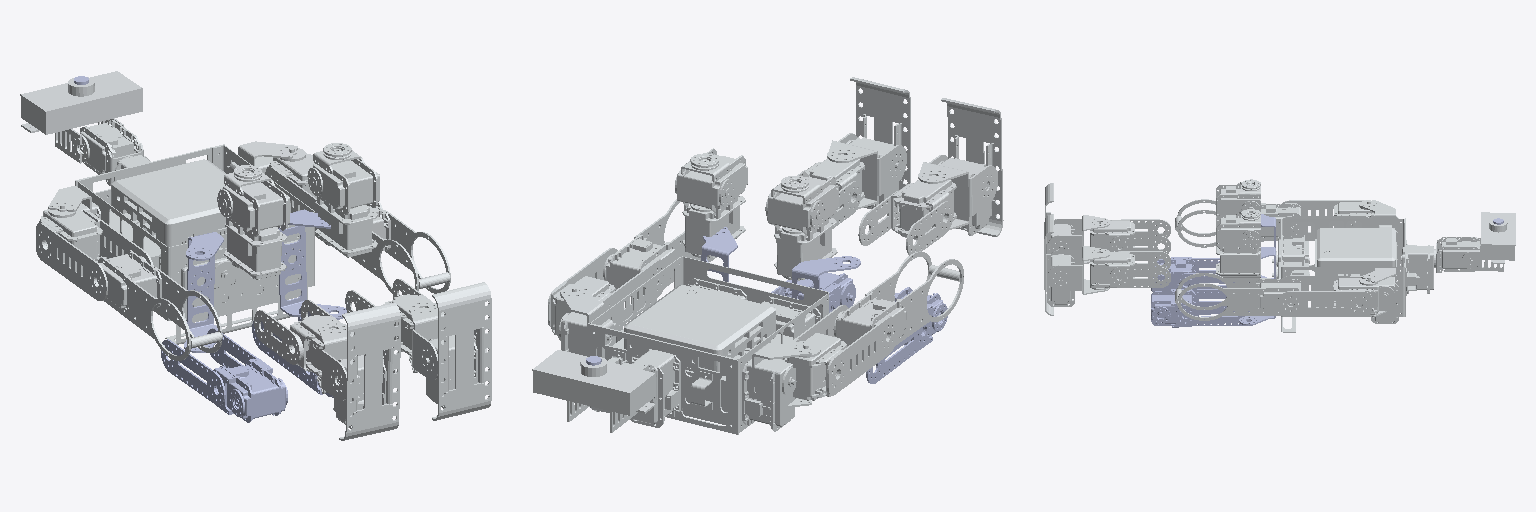
--- What the picture shows (computed from the rendered views, not written in the file) ---
The picture shows the robot from 3 angles, left to right: view 1: azimuth 30°, elevation 25°; view 2: azimuth 150°, elevation 25°; view 3: azimuth 270°, elevation 25°; orthographic projection.
Model natasha with 24 links and 23 joints (21 continuous, 2 fixed), rooted at TRUNK, posed all joints at 0.
Links seen in each view (by area): view 1: TRUNK, LFOOT_link, RFOOT_link, RLEG_2_link, LLEG_2_link, HEAD_1_link, RLEG_1_link, RARM_2_link, RARM_1_link, RLEG_3_link, LARM_2_link, LLEG_0_link (+9 smaller); view 2: TRUNK, HEAD_1_link, RLEG_2_link, RARM_1_link, LLEG_2_link, RARM_2_link, RLEG_3_link, RFOOT_link, LFOOT_link, LARM_1_link, LARM_2_link, RLEG_4_link (+8 smaller); view 3: TRUNK, LARM_1_link, LARM_2_link, LLEG_2_link, LLEG_3_link, LLEG_1_link, RLEG_3_link, HEAD_1_link, RARM_1_link, LLEG_4_link, RARM_2_link, RLEG_1_link (+4 smaller).
Link boxes in pixels (x1=…): TRUNK: x1=75, y1=144, x2=314, y2=344; LFOOT_link: x1=424, y1=282, x2=491, y2=420; RFOOT_link: x1=333, y1=303, x2=400, y2=440; RLEG_2_link: x1=217, y1=165, x2=289, y2=279; LLEG_2_link: x1=307, y1=143, x2=379, y2=257; HEAD_1_link: x1=20, y1=71, x2=142, y2=163; RLEG_1_link: x1=161, y1=328, x2=287, y2=422; RARM_2_link: x1=95, y1=250, x2=222, y2=360; RARM_1_link: x1=36, y1=204, x2=153, y2=300; RLEG_3_link: x1=254, y1=300, x2=340, y2=380; LARM_2_link: x1=351, y1=204, x2=450, y2=295; LLEG_0_link: x1=278, y1=209, x2=346, y2=319; TRUNK: x1=559, y1=256, x2=828, y2=434; HEAD_1_link: x1=532, y1=350, x2=655, y2=432; RLEG_2_link: x1=765, y1=171, x2=838, y2=280; RARM_1_link: x1=781, y1=305, x2=897, y2=400; LLEG_2_link: x1=675, y1=148, x2=747, y2=257; RARM_2_link: x1=833, y1=251, x2=963, y2=347; RLEG_3_link: x1=858, y1=175, x2=956, y2=255; RFOOT_link: x1=938, y1=98, x2=1003, y2=236; LFOOT_link: x1=846, y1=77, x2=910, y2=209; LARM_1_link: x1=548, y1=248, x2=667, y2=340; LARM_2_link: x1=603, y1=199, x2=716, y2=290; RLEG_4_link: x1=918, y1=155, x2=997, y2=229; TRUNK: x1=1272, y1=216, x2=1435, y2=332; LARM_1_link: x1=1277, y1=275, x2=1378, y2=316; LARM_2_link: x1=1175, y1=273, x2=1300, y2=320; LLEG_2_link: x1=1216, y1=209, x2=1260, y2=277; LLEG_3_link: x1=1090, y1=251, x2=1170, y2=289; LLEG_1_link: x1=1151, y1=289, x2=1255, y2=327; RLEG_3_link: x1=1090, y1=219, x2=1170, y2=255; HEAD_1_link: x1=1470, y1=212, x2=1515, y2=271; RARM_1_link: x1=1278, y1=200, x2=1374, y2=240; LLEG_4_link: x1=1047, y1=246, x2=1109, y2=294; RARM_2_link: x1=1175, y1=199, x2=1300, y2=247; RLEG_1_link: x1=1151, y1=257, x2=1234, y2=291.
Size in the robot's own frame: 0.3171 by 0.6859 by 0.2019 metres.
22 mesh visuals loaded from 24 distinct referenced files (22 binary STL); not drawn: 2 (reference not matched to a file when rendering).

robot.urdf — natasha:
<?xml version="1.0" ?>
<robot name="natasha" version="1.0">
  <link name="TRUNK">
    <inertial>
      <origin xyz="-6.51398520623136e-07 0.0175774224610887 -0.00272338802943403" rpy="0.0 0.0 0.0"/>
      <mass value="1.30096244584022"/>
      <inertia ixx="0.000800706241780773" ixy="7.03078693489014e-09" ixz="1.51532220678891e-08" iyy="0.00107903948589993" iyz="-8.2520998984575e-06" izz="0.00124471847173069"/>
    </inertial>
    <visual>
      <origin xyz="0.0 0.0 0.0" rpy="0.0 0.0 0.0"/>
      <geometry>
        <mesh filename="package://natasha/meshes/TRUNK.STL"/>
      </geometry>
      <material name="">
        <color rgba="0.898039215686275 0.917647058823529 0.929411764705882 1.0"/>
      </material>
    </visual>
    <collision>
      <origin xyz="1.1327983038102291e-18 0.01850000023841858 -0.0020000003278255463" rpy="1.5707963267948968 1.5707963267948966 0.0"/>
      <geometry>
        <box size="0.07999999821186068 0.19359999895095822 0.24259999394416806"/>
      </geometry>
    </collision>
  </link>
  <link name="LARM_0_link">
    <inertial>
      <origin xyz="0.00940240087518603 -0.00459323020780419 2.56257274697524e-05" rpy="0.0 0.0 0.0"/>
      <mass value="0.0227126661379003"/>
      <inertia ixx="1.55987340377569e-05" ixy="1.67253121532138e-06" ixz="-9.33108665795429e-09" iyy="1.69257189782125e-05" iyz="-5.55483641362968e-08" izz="6.96937791863942e-06"/>
    </inertial>
    <visual>
      <origin xyz="0.0 0.0 0.0" rpy="0.0 0.0 0.0"/>
      <geometry>
        <mesh filename="package://natasha/meshes/LARM_0_link.STL"/>
      </geometry>
      <material name="">
        <color rgba="0.898039215686275 0.917647058823529 0.929411764705882 1.0"/>
      </material>
    </visual>
    <collision>
      <origin xyz="0.013097860844305831 -0.007949894847238535 4.435260243706424e-05" rpy="1.574735371352731 -0.00395103321249166 -2.3547128931903925"/>
      <geometry>
        <box size="0.035258716008206084 0.056000013292668654 0.057756929529179414"/>
      </geometry>
    </collision>
  </link>
  <joint name="LARM_0" type="continuous">
    <origin xyz="0.0968000000000003 0.0615 0.0130000000000002" rpy="0.0 0.0 0.0"/>
    <axis xyz="-1.0 0.0 0.0"/>
    <parent link="TRUNK"/>
    <child link="LARM_0_link"/>
  </joint>
  <link name="LARM_1_link">
    <inertial>
      <origin xyz="2.69936341454335e-06 -0.0231641298245469 -0.0307096397868224" rpy="0.0 0.0 0.0"/>
      <mass value="0.313942828750374"/>
      <inertia ixx="0.000201312815423623" ixy="-5.05107454373478e-09" ixz="7.03025970863297e-09" iyy="7.42237915855183e-05" iyz="-2.86966238425838e-06" izz="0.000166600144989775"/>
    </inertial>
    <visual>
      <origin xyz="0.0 0.0 0.0" rpy="0.0 0.0 0.0"/>
      <geometry>
        <mesh filename="package://natasha/meshes/LARM_1_link.STL"/>
      </geometry>
      <material name="">
        <color rgba="0.898039215686275 0.917647058823529 0.929411764705882 1.0"/>
      </material>
    </visual>
    <collision>
      <origin xyz="-1.7059555863645764e-18 -0.059427108615636826 -0.028799999588727938" rpy="1.5707963267948966 6.123233995736766e-17 3.141592653589793"/>
      <geometry>
        <box size="0.055799998342990896 0.0575999988436699 0.14785421639680862"/>
      </geometry>
    </collision>
  </link>
  <joint name="LARM_1" type="continuous">
    <origin xyz="0.0338426329686676 -0.0236234517093273 0.0309322750601257" rpy="-0.00557896304881236 0.0 0.0"/>
    <axis xyz="0.0 -0.00557893410814587 0.999984437626015"/>
    <parent link="LARM_0_link"/>
    <child link="LARM_1_link"/>
  </joint>
  <link name="LARM_2_link">
    <inertial>
      <origin xyz="0.0306962270533954 -0.0274919403142502 -0.000520647910192906" rpy="0.0 0.0 0.0"/>
      <mass value="0.281496848216383"/>
      <inertia ixx="0.000156753433227666" ixy="2.86965668977681e-06" ixz="-7.0314533726049e-09" iyy="7.28961406660007e-05" iyz="4.98720536010233e-06" izz="0.000170904146038926"/>
    </inertial>
    <visual>
      <origin xyz="0.0 0.0 0.0" rpy="0.0 0.0 0.0"/>
      <geometry>
        <mesh filename="package://natasha/meshes/LARM_2_link.STL"/>
      </geometry>
      <material name="">
        <color rgba="0.898039215686275 0.917647058823529 0.929411764705882 1.0"/>
      </material>
    </visual>
    <collision>
      <origin xyz="0.028149999761581196 -0.07696931789369078 -0.0016564903011537248" rpy="1.5673557043404363 -4.213538962687746e-19 -1.8369629501154952e-16"/>
      <geometry>
        <box size="0.05629999918937726 0.0596943131345594 0.18302937192563473"/>
      </geometry>
    </collision>
  </link>
  <joint name="LARM_2" type="continuous">
    <origin xyz="-0.0307 -0.113500031528617 -0.0307999828025723" rpy="0.00373494942577696 0.0 0.0"/>
    <axis xyz="-1.0 0.0 0.0"/>
    <parent link="LARM_1_link"/>
    <child link="LARM_2_link"/>
  </joint>
  <link name="RARM_0_link">
    <inertial>
      <origin xyz="-0.00940240087518633 -0.00459330169048297 -2.4980018054066e-16" rpy="0.0 0.0 0.0"/>
      <mass value="0.0227126661379004"/>
      <inertia ixx="1.5598734037757e-05" ixy="-1.67255724428273e-06" ixz="4.77249092902069e-21" iyy="1.69260288836988e-05" iyz="1.53539601878537e-20" izz="6.96906801315327e-06"/>
    </inertial>
    <visual>
      <origin xyz="0.0 0.0 0.0" rpy="0.0 0.0 0.0"/>
      <geometry>
        <mesh filename="package://natasha/meshes/RARM_0_link.STL"/>
      </geometry>
      <material name="">
        <color rgba="0.898039215686275 0.917647058823529 0.929411764705882 1.0"/>
      </material>
    </visual>
    <collision>
      <origin xyz="-0.013097861871175683 -0.007950016788696985 0.0" rpy="1.5707963267948966 -0.0 2.354704908380917"/>
      <geometry>
        <box size="0.035258689582836684 0.05600000172853469 0.057756916956546445"/>
      </geometry>
    </collision>
  </link>
  <joint name="RARM_0" type="continuous">
    <origin xyz="-0.0968 0.0615 0.0130000000000002" rpy="0.0 0.0 0.0"/>
    <axis xyz="1.0 0.0 0.0"/>
    <parent link="TRUNK"/>
    <child link="RARM_0_link"/>
  </joint>
  <link name="RARM_1_link">
    <inertial>
      <origin xyz="2.69936078153843e-06 -0.0231641298248161 -0.0307096432098593" rpy="0.0 0.0 0.0"/>
      <mass value="0.313942828751114"/>
      <inertia ixx="0.000201312815425872" ixy="-5.05107366001073e-09" ixz="7.03026375288569e-09" iyy="7.4223791590747e-05" iyz="-2.8696566891905e-06" izz="0.000166600144987775"/>
    </inertial>
    <visual>
      <origin xyz="0.0 0.0 0.0" rpy="0.0 0.0 0.0"/>
      <geometry>
        <mesh filename="package://natasha/meshes/RARM_1_link.STL"/>
      </geometry>
      <material name="">
        <color rgba="0.898039215686275 0.917647058823529 0.929411764705882 1.0"/>
      </material>
    </visual>
    <collision>
      <origin xyz="-1.118781862580093e-19 -0.059427108615636826 -0.02879999958872795" rpy="-1.5707963267948968 1.2246467991473532e-16 3.141592653589793"/>
      <geometry>
        <box size="0.055799998342990896 0.057599998843669925 0.14785421639680862"/>
      </geometry>
    </collision>
  </link>
  <joint name="RARM_1" type="continuous">
    <origin xyz="-0.0338426329686679 -0.0237956531967125 0.0307999999999998" rpy="0.0 0.0 0.00782300250560052"/>
    <axis xyz="0.0 0.0 1.0"/>
    <parent link="RARM_0_link"/>
    <child link="RARM_1_link"/>
  </joint>
  <link name="RARM_2_link">
    <inertial>
      <origin xyz="-0.0308311537115563 -0.0273506992114726 -0.000523962569397213" rpy="0.0 0.0 0.0"/>
      <mass value="0.282950517834651"/>
      <inertia ixx="0.000156898152501548" ixy="-2.86965669176103e-06" ixz="-7.03145069111775e-09" iyy="7.29711487587658e-05" iyz="4.99731421083856e-06" izz="0.00017097915418613"/>
    </inertial>
    <visual>
      <origin xyz="0.0 0.0 0.0" rpy="0.0 0.0 0.0"/>
      <geometry>
        <mesh filename="package://natasha/meshes/RARM_2_link.STL"/>
      </geometry>
      <material name="">
        <color rgba="0.898039215686275 0.917647058823529 0.929411764705882 1.0"/>
      </material>
    </visual>
    <collision>
      <origin xyz="-0.02865000077486019 -0.0769693178936908 -0.0016564903011537248" rpy="1.5742369492493569 -0.0 3.141592653589793"/>
      <geometry>
        <box size="0.05730000121593517 0.059694313134559404 0.18302937192563506"/>
      </geometry>
    </collision>
  </link>
  <joint name="RARM_2" type="continuous">
    <origin xyz="0.0307 -0.113500031528617 -0.0308000171974276" rpy="0.0178992667652849 0.0 0.0"/>
    <axis xyz="0.999969400471955 -0.00782166957684035 0.000140017103543179"/>
    <parent link="RARM_1_link"/>
    <child link="RARM_2_link"/>
  </joint>
  <link name="LLEG_0_link">
    <inertial>
      <origin xyz="-1.45716771982052e-15 -0.00624311928099654 6.10622663543836e-16" rpy="0.0 0.0 0.0"/>
      <mass value="0.0106610977876751"/>
      <inertia ixx="2.05913544859017e-05" ixy="-2.39821924336822e-21" ixz="4.47915508572983e-20" iyy="1.95602871362454e-05" iyz="4.90322232832319e-21" izz="3.1472868130087e-06"/>
    </inertial>
    <visual>
      <origin xyz="0.0 0.0 0.0" rpy="0.0 0.0 0.0"/>
      <geometry>
        <mesh filename="package://natasha/meshes/LLEG_0_link.STL"/>
      </geometry>
      <material name="">
        <color rgba="0.792156862745098 0.819607843137255 0.933333333333333 1.0"/>
      </material>
    </visual>
    <collision>
      <origin xyz="3.431278449951264e-20 -0.018699999433010813 0.0" rpy="3.141592653589793 -0.0 3.141592653589793"/>
      <geometry>
        <box size="0.03299999982118607 0.046999999321997166 0.10599999874830246"/>
      </geometry>
    </collision>
  </link>
  <joint name="LLEG_0" type="continuous">
    <origin xyz="0.0520000000000016 -0.1028 -0.00200000000000047" rpy="0.0 0.0 0.0"/>
    <axis xyz="0.0 1.0 0.0"/>
    <parent link="TRUNK"/>
    <child link="LLEG_0_link"/>
  </joint>
  <link name="LLEG_1_link">
    <inertial>
      <origin xyz="4.75828358613636e-05 -0.0144968100117637 0.0538237062226173" rpy="0.0 0.0 0.0"/>
      <mass value="0.184781082090319"/>
      <inertia ixx="7.524372002369e-05" ixy="-4.58251593687414e-07" ixz="-9.74530579169237e-14" iyy="4.78641548998941e-05" iyz="4.49008087983779e-07" izz="7.61508070399268e-05"/>
    </inertial>
    <visual>
      <origin xyz="0.0 0.0 0.0" rpy="0.0 0.0 0.0"/>
      <geometry>
        <mesh filename="package://natasha/meshes/LLEG_1_link.STL"/>
      </geometry>
      <material name="">
        <color rgba="0.792156862745098 0.819607843137255 0.933333333333333 1.0"/>
      </material>
    </visual>
    <collision>
      <origin xyz="0.002000000327825545 -0.018050001934170723 0.05239999875426293" rpy="3.141592653589793 -0.0 -6.123233995736766e-17"/>
      <geometry>
        <box size="0.05800000205636025 0.06510001048445702 0.10480000406503676"/>
      </geometry>
    </collision>
  </link>
  <joint name="LLEG_1" type="continuous">
    <origin xyz="0.0 -0.0311999999964205 -0.0534999999999994" rpy="0.0 0.0 2.55102041377118e-05"/>
    <axis xyz="0.0 0.0 1.0"/>
    <parent link="LLEG_0_link"/>
    <child link="LLEG_1_link"/>
  </joint>
  <link name="LLEG_2_link">
    <inertial>
      <origin xyz="-0.0301478736022048 -0.0955273605434209 -2.41470557441059e-06" rpy="0.0 0.0 0.0"/>
      <mass value="0.129982121310114"/>
      <inertia ixx="8.08701115064459e-05" ixy="-1.06336541182759e-06" ixz="2.50623318412056e-09" iyy="2.79220310390312e-05" iyz="-1.86921845837061e-09" izz="8.47582994907939e-05"/>
    </inertial>
    <visual>
      <origin xyz="0.0 0.0 0.0" rpy="0.0 0.0 0.0"/>
      <geometry>
        <mesh filename="package://natasha/meshes/LLEG_2_link.STL"/>
      </geometry>
      <material name="">
        <color rgba="0.898039215686275 0.917647058823529 0.929411764705882 1.0"/>
      </material>
    </visual>
    <collision>
      <origin xyz="-0.030619532667901902 -0.06517596114663399 3.916762792122925e-11" rpy="-1.5470661193873567 1.5707962635746238 -3.141592653589793"/>
      <geometry>
        <box size="0.040200004640963884 0.057350680620002245 0.16161748628720984"/>
      </geometry>
    </collision>
  </link>
  <joint name="LLEG_2" type="continuous">
    <origin xyz="0.031 0.0 0.075" rpy="0.0 0.0 0.0"/>
    <axis xyz="-0.999999999674615 2.55102041346993e-05 0.0"/>
    <parent link="LLEG_1_link"/>
    <child link="LLEG_2_link"/>
  </joint>
  <link name="LLEG_3_link">
    <inertial>
      <origin xyz="0.0317128181060751 -0.0686257499005281 -9.66303387609502e-05" rpy="0.0 0.0 0.0"/>
      <mass value="0.282112491927564"/>
      <inertia ixx="0.000133985423728168" ixy="5.05107543825622e-09" ixz="-7.03026183154311e-09" iyy="6.82230117936737e-05" iyz="-2.86965668973126e-06" izz="0.000105259491957706"/>
    </inertial>
    <visual>
      <origin xyz="0.0 0.0 0.0" rpy="0.0 0.0 0.0"/>
      <geometry>
        <mesh filename="package://natasha/meshes/LLEG_3_link.STL"/>
      </geometry>
      <material name="">
        <color rgba="0.898039215686275 0.917647058823529 0.929411764705882 1.0"/>
      </material>
    </visual>
    <collision>
      <origin xyz="0.030549999908544123 -0.044249999802559614 -0.0023499997332692146" rpy="1.5707963267948966 -0.0 3.141592653589793"/>
      <geometry>
        <box size="0.05549999955110252 0.05690000019967556 0.11850000265985726"/>
      </geometry>
    </collision>
  </link>
  <joint name="LLEG_3" type="continuous">
    <origin xyz="-0.0608000000000031 -0.131000000000008 0.0" rpy="0.0 0.0 0.0"/>
    <axis xyz="0.999999999674615 -2.55102041200613e-05 0.0"/>
    <parent link="LLEG_2_link"/>
    <child link="LLEG_3_link"/>
  </joint>
  <link name="LLEG_4_link">
    <inertial>
      <origin xyz="0.0 -0.0298481620218617 0.0308000000000266" rpy="0.0 0.0 0.0"/>
      <mass value="0.0480935266273041"/>
      <inertia ixx="3.48400068709962e-05" ixy="-7.00456542709904e-21" ixz="2.73234315500094e-21" iyy="3.54310153616357e-05" iyz="3.04707833088661e-20" izz="3.83846336806515e-05"/>
    </inertial>
    <visual>
      <origin xyz="0.0 0.0 0.0" rpy="0.0 0.0 0.0"/>
      <geometry>
        <mesh filename="package://natasha/meshes/LLEG_4_link.STL"/>
      </geometry>
      <material name="">
        <color rgba="0.898039215686275 0.917647058823529 0.929411764705882 1.0"/>
      </material>
    </visual>
    <collision>
      <origin xyz="-1.5828114710871565e-18 -0.030811095610260963 0.030800001113675535" rpy="-1.5707963267948968 1.5707963267948966 0.0"/>
      <geometry>
        <box size="0.055999999167397625 0.05600000172853469 0.09217512235045433"/>
      </geometry>
    </collision>
  </link>
  <joint name="LLEG_4" type="continuous">
    <origin xyz="0.0323000000000004 -0.0890000000000009 -0.0308000000000004" rpy="0.0 0.0 0.0"/>
    <axis xyz="0.0 0.0 1.0"/>
    <parent link="LLEG_3_link"/>
    <child link="LLEG_4_link"/>
  </joint>
  <link name="LFOOT_link">
    <inertial>
      <origin xyz="0.0307034864405177 -0.0034793009801386 -0.0116608138047555" rpy="0.0 0.0 0.0"/>
      <mass value="0.282453842585213"/>
      <inertia ixx="0.000173706647021178" ixy="7.0307869343981e-09" ixz="2.86965669064335e-06" iyy="0.000210076821795521" iyz="9.85162650549e-08" izz="7.65870914479548e-05"/>
    </inertial>
    <visual>
      <origin xyz="0.0 0.0 0.0" rpy="0.0 0.0 0.0"/>
      <geometry>
        <mesh filename="package://natasha/meshes/LFOOT_link.STL"/>
      </geometry>
      <material name="">
        <color rgba="0.898039215686275 0.917647058823529 0.929411764705882 1.0"/>
      </material>
    </visual>
    <collision>
      <origin xyz="0.030400000596046438 -0.002100000157952309 0.00828000158071518" rpy="3.141592653589793 -0.0 1.5707963267948966"/>
      <geometry>
        <box size="0.04439999908208848 0.06080000085830691 0.13544000685214996"/>
      </geometry>
    </collision>
  </link>
  <joint name="LFOOT" type="continuous">
    <origin xyz="-0.0307999999999999 -0.0564731999999996 0.0308000000000266" rpy="0.0 0.0 0.0"/>
    <axis xyz="0.999999999674615 -2.55102041204107e-05 0.0"/>
    <parent link="LLEG_4_link"/>
    <child link="LFOOT_link"/>
  </joint>
  <link name="RLEG_0_link">
    <inertial>
      <origin xyz="1.4432899320127e-15 -0.0062431192809965 6.38378239159465e-16" rpy="0.0 0.0 0.0"/>
      <mass value="0.0106610977876751"/>
      <inertia ixx="2.05913544859017e-05" ixy="1.144507387098e-21" ixz="-5.01520546267034e-21" iyy="1.95602871362454e-05" iyz="1.04324170235949e-20" izz="3.14728681300865e-06"/>
    </inertial>
    <visual>
      <origin xyz="0.0 0.0 0.0" rpy="0.0 0.0 0.0"/>
      <geometry>
        <mesh filename="package://natasha/meshes/RLEG_0_link.STL"/>
      </geometry>
      <material name="">
        <color rgba="0.792156862745098 0.819607843137255 0.933333333333333 1.0"/>
      </material>
    </visual>
    <collision>
      <origin xyz="3.431278449951264e-20 -0.018699999433010813 0.0" rpy="3.141592653589793 -0.0 3.141592653589793"/>
      <geometry>
        <box size="0.03299999982118607 0.046999999321997166 0.10599999874830246"/>
      </geometry>
    </collision>
  </link>
  <joint name="RLEG_0" type="continuous">
    <origin xyz="-0.0520000000000016 -0.1028 -0.00200000000000045" rpy="0.0 0.0 0.0"/>
    <axis xyz="0.0 1.0 0.0"/>
    <parent link="TRUNK"/>
    <child link="RLEG_0_link"/>
  </joint>
  <link name="RLEG_1_link">
    <inertial>
      <origin xyz="4.75879385162942e-05 -0.0144968100118387 0.0538237062226283" rpy="0.0 0.0 0.0"/>
      <mass value="0.184781082075963"/>
      <inertia ixx="7.52437200227313e-05" ixy="-4.58251594029843e-07" ixz="-9.68255551321689e-14" iyy="4.78641549008102e-05" iyz="4.49008087309099e-07" izz="7.61508070403621e-05"/>
    </inertial>
    <visual>
      <origin xyz="0.0 0.0 0.0" rpy="0.0 0.0 0.0"/>
      <geometry>
        <mesh filename="package://natasha/meshes/RLEG_1_link.STL"/>
      </geometry>
      <material name="">
        <color rgba="0.792156862745098 0.819607843137255 0.933333333333333 1.0"/>
      </material>
    </visual>
    <collision>
      <origin xyz="0.002000000327825545 -0.018050001934170723 0.05239999875426293" rpy="3.141592653589793 -0.0 -6.123233995736766e-17"/>
      <geometry>
        <box size="0.05800000205636025 0.06510001048445702 0.10480000406503676"/>
      </geometry>
    </collision>
  </link>
  <joint name="RLEG_1" type="continuous">
    <origin xyz="0.0 -0.0312000000000008 -0.0534999999999996" rpy="0.0 0.0 0.0"/>
    <axis xyz="0.0 0.0 1.0"/>
    <parent link="RLEG_0_link"/>
    <child link="RLEG_1_link"/>
  </joint>
  <link name="RLEG_2_link">
    <inertial>
      <origin xyz="-0.0302521263976149 -0.0955180773548292 0.00123291829871258" rpy="0.0 0.0 0.0"/>
      <mass value="0.129982121307704"/>
      <inertia ixx="8.0870111505757e-05" ixy="1.06336541216809e-06" ixz="2.50623274575316e-09" iyy="2.79309425975262e-05" iyz="5.92457359960106e-07" izz="8.47493879311108e-05"/>
    </inertial>
    <visual>
      <origin xyz="0.0 0.0 0.0" rpy="0.0 0.0 0.0"/>
      <geometry>
        <mesh filename="package://natasha/meshes/RLEG_2_link.STL"/>
      </geometry>
      <material name="">
        <color rgba="0.898039215686275 0.917647058823529 0.929411764705882 1.0"/>
      </material>
    </visual>
    <collision>
      <origin xyz="-0.02978041002034974 -0.0651713979953902 0.001433322608071155" rpy="3.117860370652107 1.570796290294655 1.5707963267948968"/>
      <geometry>
        <box size="0.04020002197985827 0.0573506025555964 0.16160505919303841"/>
      </geometry>
    </collision>
  </link>
  <joint name="RLEG_2" type="continuous">
    <origin xyz="0.0310000000000013 0.0 0.075" rpy="0.0 0.0 0.0"/>
    <axis xyz="-1.0 0.0 0.0"/>
    <parent link="RLEG_1_link"/>
    <child link="RLEG_2_link"/>
  </joint>
  <link name="RLEG_3_link">
    <inertial>
      <origin xyz="-0.0293871818941956 -0.0686257499006913 -9.6630339027598e-05" rpy="0.0 0.0 0.0"/>
      <mass value="0.282112491931879"/>
      <inertia ixx="0.000133985423737543" ixy="5.0510740242845e-09" ixz="-7.03026393341319e-09" iyy="6.82230117976618e-05" iyz="-2.86965669064315e-06" izz="0.00010525949195905"/>
    </inertial>
    <visual>
      <origin xyz="0.0 0.0 0.0" rpy="0.0 0.0 0.0"/>
      <geometry>
        <mesh filename="package://natasha/meshes/RLEG_3_link.STL"/>
      </geometry>
      <material name="">
        <color rgba="0.898039215686275 0.917647058823529 0.929411764705882 1.0"/>
      </material>
    </visual>
    <collision>
      <origin xyz="-0.030549999908544123 -0.044249999802559614 -0.00234999973326922" rpy="1.5707963267948968 6.123233995736766e-17 3.141592653589793"/>
      <geometry>
        <box size="0.05549999955110251 0.05690000019967556 0.11850000265985726"/>
      </geometry>
    </collision>
  </link>
  <joint name="RLEG_3" type="continuous">
    <origin xyz="0.000400000000003356 -0.130989186721063 0.00143331994767354" rpy="0.0 0.0 0.0"/>
    <axis xyz="-1.0 0.0 0.0"/>
    <parent link="RLEG_2_link"/>
    <child link="RLEG_3_link"/>
  </joint>
  <link name="RLEG_4_link">
    <inertial>
      <origin xyz="6.66133814775094e-16 -0.0298481620218638 0.0307999999999999" rpy="0.0 0.0 0.0"/>
      <mass value="0.0480935266273041"/>
      <inertia ixx="3.48400068709961e-05" ixy="-8.44470671044584e-21" ixz="2.09988496444655e-20" iyy="3.54310153616356e-05" iyz="2.8250229905432e-20" izz="3.83846336806514e-05"/>
    </inertial>
    <visual>
      <origin xyz="0.0 0.0 0.0" rpy="0.0 0.0 0.0"/>
      <geometry>
        <mesh filename="package://natasha/meshes/RLEG_4_link.STL"/>
      </geometry>
      <material name="">
        <color rgba="0.898039215686275 0.917647058823529 0.929411764705882 1.0"/>
      </material>
    </visual>
    <collision>
      <origin xyz="-1.5828114710871565e-18 -0.030811095610260963 0.030800001113675535" rpy="-1.5707963267948968 1.5707963267948966 0.0"/>
      <geometry>
        <box size="0.055999999167397625 0.05600000172853469 0.09217512235045433"/>
      </geometry>
    </collision>
  </link>
  <joint name="RLEG_4" type="continuous">
    <origin xyz="-0.0287999999999978 -0.0890000000000021 -0.030800000000007" rpy="0.0 0.0 0.0"/>
    <axis xyz="0.0 0.0 1.0"/>
    <parent link="RLEG_3_link"/>
    <child link="RLEG_4_link"/>
  </joint>
  <link name="RFOOT_link">
    <inertial>
      <origin xyz="-0.0307023351422458 -0.00347330038899879 -0.0116608138047556" rpy="0.0 0.0 0.0"/>
      <mass value="0.282453842585213"/>
      <inertia ixx="0.000173706647021177" ixy="7.03078693340491e-09" ixz="-2.86965669064314e-06" iyy="0.000210076821795521" iyz="8.8414117010192e-08" izz="7.65870914479543e-05"/>
    </inertial>
    <visual>
      <origin xyz="0.0 0.0 0.0" rpy="0.0 0.0 0.0"/>
      <geometry>
        <mesh filename="package://natasha/meshes/RFOOT_link.STL"/>
      </geometry>
      <material name="">
        <color rgba="0.898039215686275 0.917647058823529 0.929411764705882 1.0"/>
      </material>
    </visual>
    <collision>
      <origin xyz="-0.03039999873340126 -0.0021000001579523082 0.00828000158071518" rpy="3.141592653589793 -0.0 1.5707963267948966"/>
      <geometry>
        <box size="0.04439999908208848 0.06079999713301667 0.13544000685214996"/>
      </geometry>
    </collision>
  </link>
  <joint name="RFOOT" type="continuous">
    <origin xyz="0.0308000000000016 -0.0564732000000002 0.0308" rpy="0.0 0.0 0.0"/>
    <axis xyz="-1.0 0.0 0.0"/>
    <parent link="RLEG_4_link"/>
    <child link="RFOOT_link"/>
  </joint>
  <link name="HEAD_0_link">
    <inertial>
      <origin xyz="-0.000459940926986584 0.0295842069158785 0.00648795528473853" rpy="0.0 0.0 0.0"/>
      <mass value="0.0830604003158799"/>
      <inertia ixx="2.60553048517388e-05" ixy="-8.80469004186944e-07" ixz="7.36642794740703e-09" iyy="1.92571871074488e-05" iyz="-1.6315714938329e-08" izz="3.15983218764179e-05"/>
    </inertial>
    <visual>
      <origin xyz="0.0 0.0 0.0" rpy="0.0 0.0 0.0"/>
      <geometry>
        <mesh filename="package://natasha/meshes/HEAD_0_link.STL"/>
      </geometry>
      <material name="">
        <color rgba="0.898039215686275 0.917647058823529 0.929411764705882 1.0"/>
      </material>
    </visual>
    <collision>
      <origin xyz="0.0023538995555676926 0.028199419828775864 0.006298543176515354" rpy="1.5710969692163312 1.5701772558639058 -3.1412920111107594"/>
      <geometry>
        <box size="0.04160001306296874 0.05130000432689653 0.06599885164569116"/>
      </geometry>
    </collision>
  </link>
  <joint name="HEAD_0" type="continuous">
    <origin xyz="0.0 0.1398 0.0129999999999998" rpy="0.0 0.0 0.0"/>
    <axis xyz="0.0 1.0 0.0"/>
    <parent link="TRUNK"/>
    <child link="HEAD_0_link"/>
  </joint>
  <link name="HEAD_1_link">
    <inertial>
      <origin xyz="-0.0279838437433484 0.0375868624296965 0.0261081968285957" rpy="0.0 0.0 0.0"/>
      <mass value="0.162523995997902"/>
      <inertia ixx="4.36509350799157e-05" ixy="-3.86401534823547e-10" ixz="8.10816450318063e-08" iyy="0.000152599291712245" iyz="-6.24210103475762e-07" izz="0.000174633754973691"/>
    </inertial>
    <visual>
      <origin xyz="0.0 0.0 0.0" rpy="0.0 0.0 0.0"/>
      <geometry>
        <mesh filename="package://natasha/meshes/HEAD_1_link.STL"/>
      </geometry>
      <material name="">
        <color rgba="0.898039215686275 0.917647058823529 0.929411764705882 1.0"/>
      </material>
    </visual>
    <collision>
      <origin xyz="-0.027989065710242445 0.030995709922686947 0.01767422498522996" rpy="1.5714155885797367 0.027418287383163938 1.5708133041139216"/>
      <geometry>
        <box size="0.06500000466875323 0.0670000087808667 0.12660000357480564"/>
      </geometry>
    </collision>
  </link>
  <joint name="HEAD_1" type="continuous">
    <origin xyz="0.0280043278080914 0.0472 0.00698266596773467" rpy="0.0 0.0 0.0"/>
    <axis xyz="-1.0 0.0 0.0"/>
    <parent link="HEAD_0_link"/>
    <child link="HEAD_1_link"/>
  </joint>
  <link name="CAM_link">
    <inertial>
      <origin xyz="-9.19825971977279e-07 -4.07517424373116e-05 -0.00148592749618404" rpy="0.0 0.0 0.0"/>
      <mass value="0.0005230751768227"/>
      <inertia ixx="7.84102792145359e-09" ixy="1.19788619467128e-13" ixz="4.36784276573896e-12" iyy="7.84633230302996e-09" iyz="1.93511825952827e-10" izz="1.48970313126617e-08"/>
    </inertial>
    <visual>
      <origin xyz="0.0 0.0 0.0" rpy="0.0 0.0 0.0"/>
      <geometry>
        <mesh filename="package://natasha/meshes/CAM_link.STL"/>
      </geometry>
      <material name="">
        <color rgba="0.792156862745098 0.819607843137255 0.933333333333333 1.0"/>
      </material>
    </visual>
    <collision>
      <origin xyz="6.762281779168058e-06 -3.1706581213376226e-05 -0.0014996989531109426" rpy="2.2329264786862137 1.5433710981037603 -1.5933639606882064"/>
      <geometry>
        <box size="0.0030000001500259275 0.01497567984416766 0.014987834801883784"/>
      </geometry>
    </collision>
  </link>
  <joint name="CAM" type="continuous">
    <origin xyz="-0.0279666059511939 0.0394935319232592 0.0539548875246459" rpy="0.0 0.0 0.0"/>
    <axis xyz="0.0 1.0 0.0"/>
    <parent link="HEAD_1_link"/>
    <child link="CAM_link"/>
  </joint>
  <link name="FTRUNK_link">
    <inertial>
      <origin xyz="3.77302356024956e-17 2.08166817117217e-17 0.0383786239580018" rpy="0.0 0.0 0.0"/>
      <mass value="0.0690807300918303"/>
      <inertia ixx="0.000186658123987484" ixy="2.23526173496849e-19" ixz="-5.592779355741e-21" iyy="0.000204703329622842" iyz="-1.5940313977854e-20" izz="0.00039073899801165"/>
    </inertial>
    <visual>
      <origin xyz="0.0 0.0 0.0" rpy="0.0 0.0 0.0"/>
      <geometry>
        <mesh filename="package://natasha/meshes/FTRUNK_link.STL"/>
      </geometry>
      <material name="">
        <color rgba="0.792156862745098 0.819607843137255 0.933333333333333 1.0"/>
      </material>
    </visual>
    <collision>
      <origin xyz="0.0 0.0 0.03399999998509884" rpy="-1.5707963267948963 1.5707963267948966 0.0"/>
      <geometry>
        <box size="0.01199999824166301 0.1720000058412552 0.1800000071525574"/>
      </geometry>
    </collision>
  </link>
  <joint name="FTRUNK" type="fixed">
    <origin xyz="0.0 0.0 0.0" rpy="0.0 0.0 0.0"/>
    <axis xyz="0.0 0.0 0.0"/>
    <parent link="TRUNK"/>
    <child link="FTRUNK_link"/>
  </joint>
  <link name="BTRUNK_Link">
    <inertial>
      <origin xyz="1.86049092798513e-16 -0.00075579496190321 -0.0424712086081985" rpy="0.0 0.0 0.0"/>
      <mass value="0.0682407300918303"/>
      <inertia ixx="0.000183314267846002" ixy="-2.1409058611776e-19" ixz="-2.51098480690945e-20" iyy="0.000198583440762316" iyz="3.92703055176453e-07" izz="0.000381376470730695"/>
    </inertial>
    <visual>
      <origin xyz="0.0 0.0 0.0" rpy="0.0 0.0 0.0"/>
      <geometry>
        <mesh filename="package://natasha/meshes/BTRUNK_Link.STL"/>
      </geometry>
      <material name="">
        <color rgba="0.792156862745098 0.819607843137255 0.933333333333333 1.0"/>
      </material>
    </visual>
    <collision>
      <origin xyz="0.0 0.0 -0.03800000064074993" rpy="-1.5707963267948963 1.5707963267948966 0.0"/>
      <geometry>
        <box size="0.01199999824166301 0.1720000058412552 0.1800000071525574"/>
      </geometry>
    </collision>
  </link>
  <joint name="BTRUNK" type="fixed">
    <origin xyz="0.0 0.0 0.0" rpy="0.0 0.0 0.0"/>
    <axis xyz="0.0 0.0 0.0"/>
    <parent link="TRUNK"/>
    <child link="BTRUNK_Link"/>
  </joint>
</robot>
